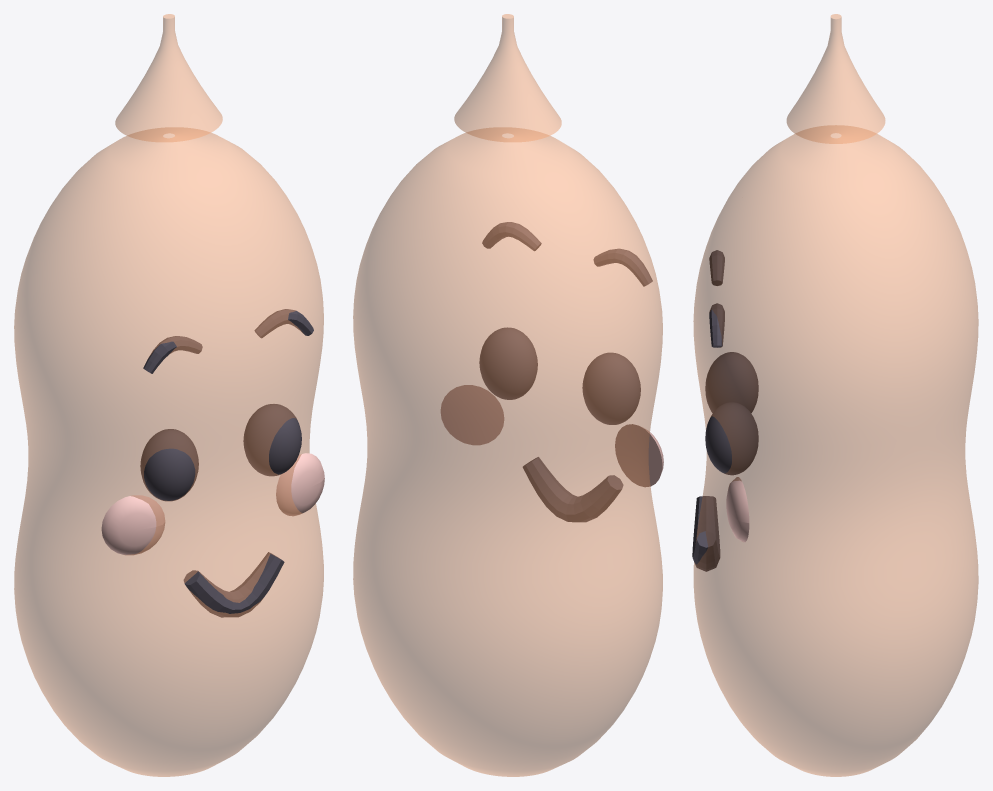
File: jelly-friends-playroom-jelly-ember-stretched-23a80b57__27618.glb
3 views of the same model, side by side, from view 1: azimuth 30°, elevation 25°; view 2: azimuth 150°, elevation 25°; view 3: azimuth 270°, elevation 25° (orthographic).
Visible parts, largest first — view 1: body, eye-right, eye-left, blush-left, mouth, blush-right, brow-left, brow-right; view 2: body, eye-right, eye-left, blush-right, mouth, blush-left, brow-left, brow-right; view 3: body, eye-right, eye-left, mouth, blush-right, brow-right.
Part boxes in pixels (bbox=[...]): body: bbox=[14, 14, 323, 776]; eye-right: bbox=[243, 404, 301, 476]; eye-left: bbox=[140, 429, 198, 501]; blush-left: bbox=[101, 495, 165, 555]; mouth: bbox=[183, 552, 284, 617]; blush-right: bbox=[276, 453, 324, 516]; brow-left: bbox=[143, 336, 202, 373]; brow-right: bbox=[254, 309, 313, 338]; body: bbox=[353, 14, 662, 776]; eye-right: bbox=[479, 327, 537, 399]; eye-left: bbox=[582, 352, 640, 424]; blush-right: bbox=[440, 385, 504, 445]; mouth: bbox=[523, 457, 623, 522]; blush-left: bbox=[615, 424, 663, 487]; brow-left: bbox=[593, 248, 652, 286]; brow-right: bbox=[482, 222, 541, 250]; body: bbox=[693, 14, 978, 776]; eye-right: bbox=[705, 402, 758, 475]; eye-left: bbox=[705, 352, 758, 412]; mouth: bbox=[692, 496, 720, 571]; blush-right: bbox=[726, 477, 749, 542]; brow-right: bbox=[709, 303, 724, 347].
Bounding box in the file's own units: 0.1807 × 0.4638 × 0.1633.
